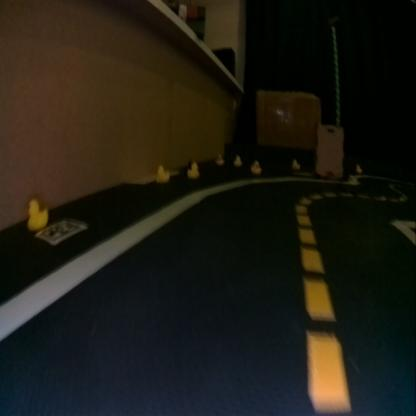Duckie: (27, 198, 47, 226), (156, 165, 169, 182), (188, 162, 199, 178), (250, 160, 260, 172), (291, 159, 299, 167), (356, 164, 362, 172), (216, 155, 222, 162), (234, 157, 240, 163)
QR code: (37, 219, 85, 242)
